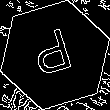P_S: (29, 26, 81, 84)
